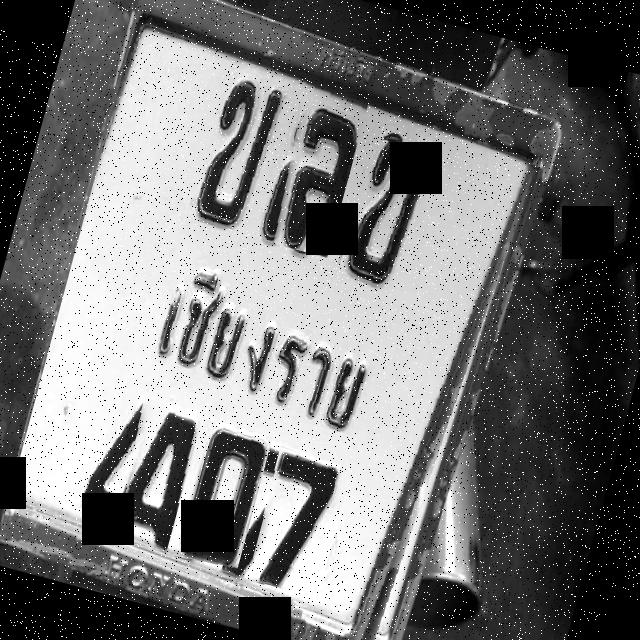letters: (167, 52, 296, 236), (264, 81, 369, 258), (105, 390, 208, 553), (165, 418, 272, 573), (334, 136, 434, 300), (244, 448, 352, 599)
license-plate: (0, 0, 548, 640)
province: (126, 228, 422, 444)
